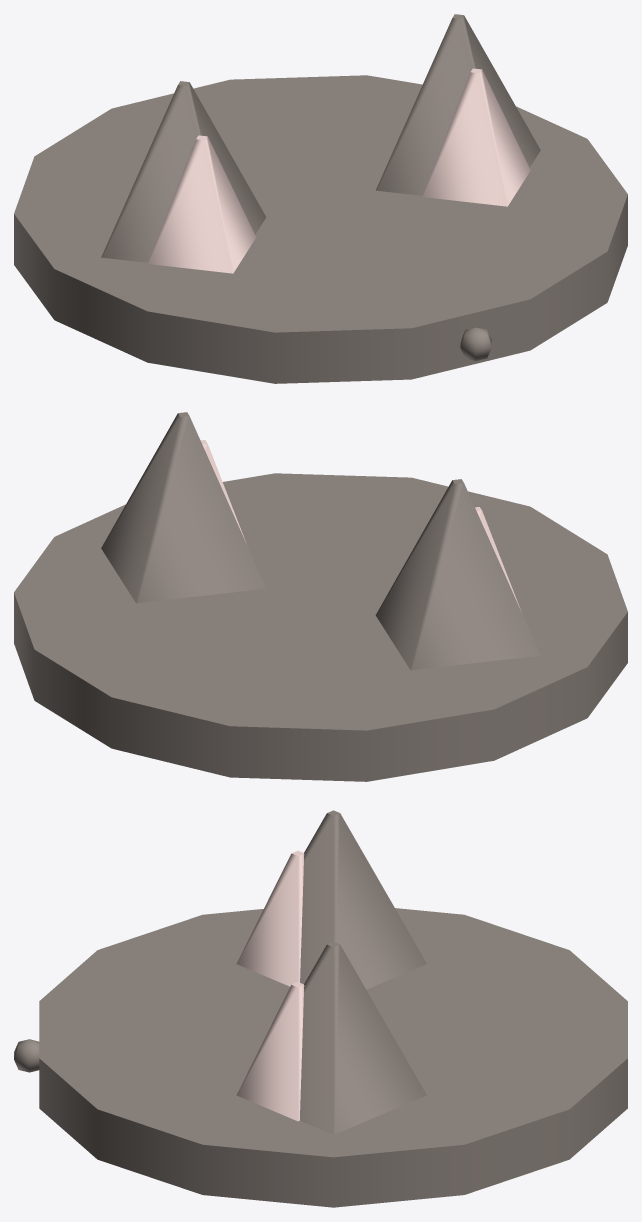
File: hat_cat.glb
3 renders of one model, top to bottom at view 1: azimuth 30°, elevation 25°; view 2: azimuth 150°, elevation 25°; view 3: azimuth 270°, elevation 25°, orthographic.
Parts seen in each view (by area): view 1: hat_cat; view 2: hat_cat; view 3: hat_cat.
Boxes of the visible parts, x1,y1,x2,y2 form: hat_cat: (14, 14, 627, 383); hat_cat: (14, 412, 627, 781); hat_cat: (14, 810, 627, 1207).
Bounding box in the file's own units: 27.2 × 10 × 27.65.
